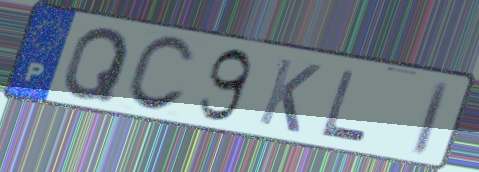9: (197, 47, 255, 124)
C: (122, 34, 198, 115)
I: (408, 79, 453, 159)
K: (254, 54, 325, 136)
L: (318, 67, 370, 144)
Q: (60, 25, 133, 103)
